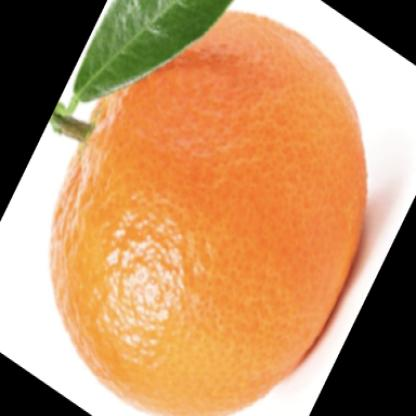fresh: (55, 14, 369, 416)
